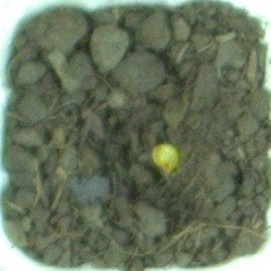chilli seed: (149, 141, 182, 174)
